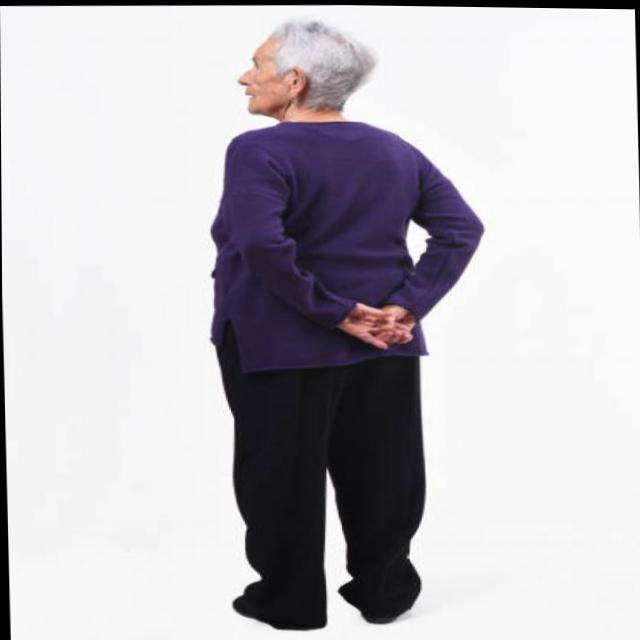no helmet: (224, 3, 392, 130)
